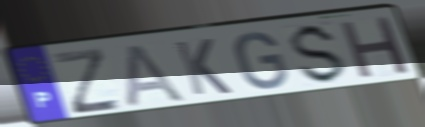A: (125, 42, 189, 108)
G: (232, 31, 291, 92)
H: (337, 14, 413, 82)
K: (171, 37, 235, 98)
S: (289, 22, 350, 87)
Z: (49, 45, 125, 117)
